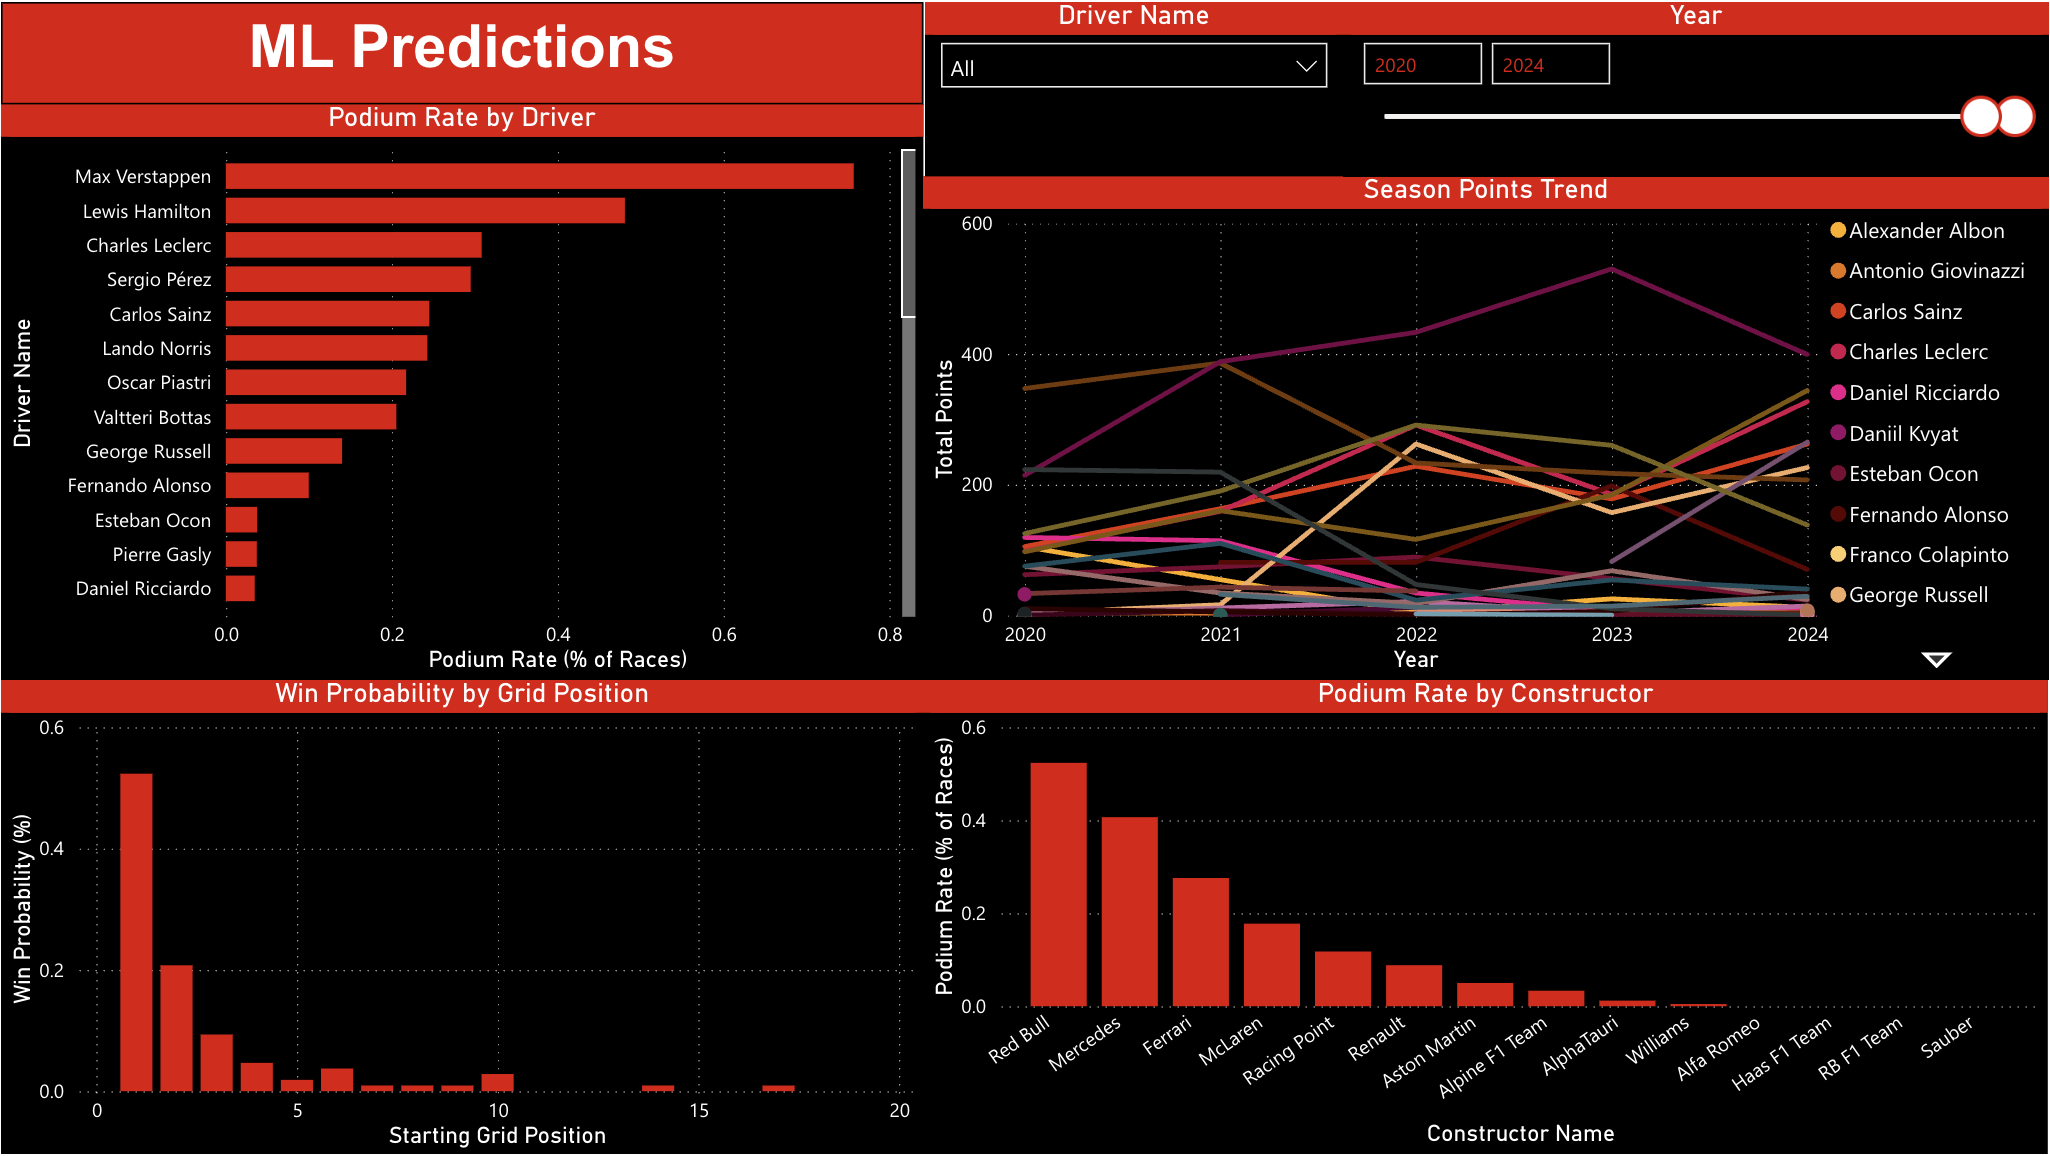

What the dashboard file says about the page in this screenshot:
{"tool":"powerbi","page":{"name":"Predictions and Performance","canvas":[1280,720],"ordinal":3},"visuals":[{"type":"barChart","title":"Podium Rate by Driver","fields":{"Category":["f1_master 1.full_name"],"Y":["Avg(f1_master 1.is_podium)"]},"box":[0,63.8,576.2,360],"z":0},{"type":"clusteredColumnChart","title":"Win Probability by Grid Position","fields":{"Category":["f1_master 1.grid"],"Y":["Avg(f1_master 1.is_win)"]},"box":[0,423.8,576.2,297.5],"z":1000},{"type":"clusteredColumnChart","title":"Podium Rate by Constructor","fields":{"Category":["f1_master 1.constructor_name"],"Y":["Avg(f1_master 1.is_podium)"]},"box":[576.8,424.2,703.2,296.4],"z":2000},{"type":"lineChart","title":"Season Points Trend","fields":{"Category":["f1_master 1.year"],"Y":["Sum(f1_master 1.points)"],"Series":["f1_master 1.full_name"]},"box":[576.2,108.8,703.8,315],"z":3000},{"type":"slicer","title":"Driver Name","fields":{"Values":["f1_master 1.full_name"]},"box":[577.5,0,261.2,108.8],"z":4000},{"type":"slicer","title":"Year","fields":{"Values":["f1_master 1.year"]},"box":[838.8,0,441.2,108.8],"z":5000},{"type":"textbox","box":[0,0,576.2,63.8],"z":5001}]}

Visuals, with their boxes in screenshot pixels (x1, y1, x2, y2), scaled from the page's 1280x720 canvas onto the 2050x1156 screenshot:
"Podium Rate by Driver" barChart: [0,102,923,680]
"Win Probability by Grid Position" clusteredColumnChart: [0,680,923,1155]
"Podium Rate by Constructor" clusteredColumnChart: [924,681,2049,1155]
"Season Points Trend" lineChart: [923,175,2049,680]
"Driver Name" slicer: [925,0,1343,175]
"Year" slicer: [1343,0,2049,175]
textbox: [0,0,923,102]
